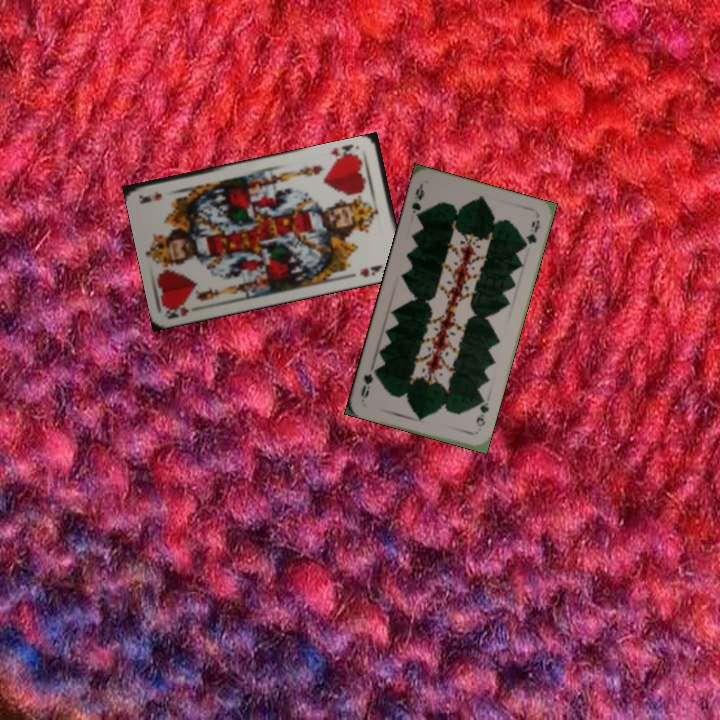G9: (408, 181, 427, 222), (472, 394, 492, 430)
HK: (327, 140, 361, 165), (163, 300, 192, 321)
